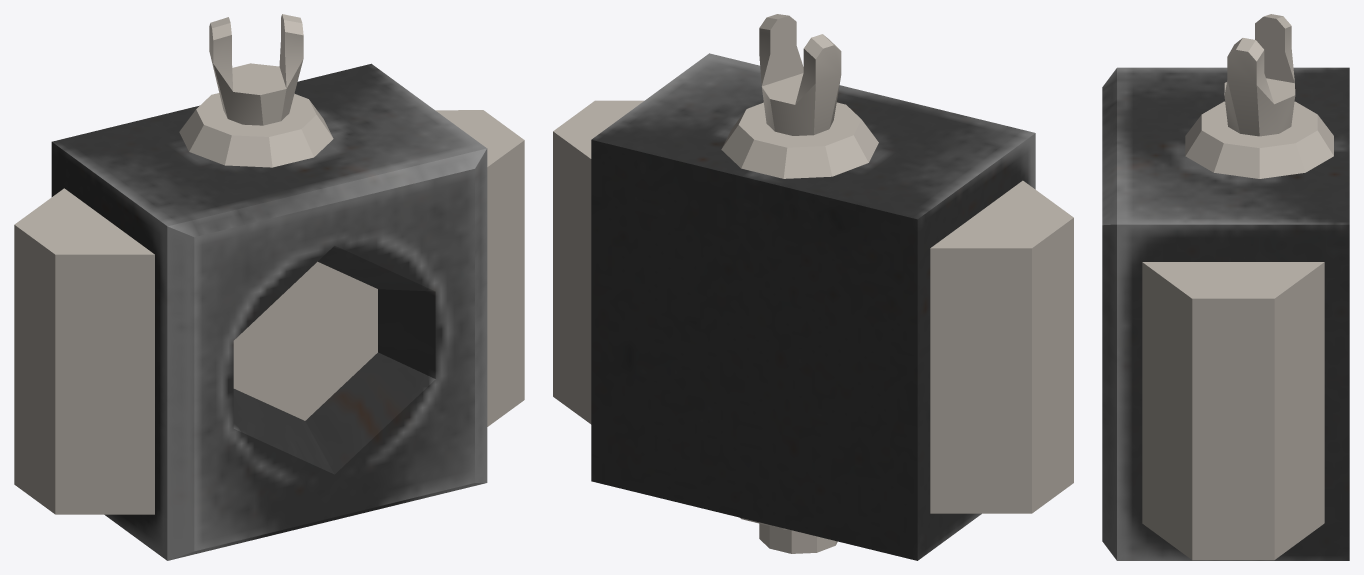
The model's file is wheel_handler.fbx.
The picture shows the model from 3 angles, left to right: view 1: azimuth 30°, elevation 25°; view 2: azimuth 150°, elevation 25°; view 3: azimuth 270°, elevation 25°; orthographic projection. The views are drawn at different scales.
Visible parts, largest first — view 1: wheel_handler; view 2: wheel_handler; view 3: wheel_handler.
Part boxes in pixels (x1,y1,x2,y2): wheel_handler: (14, 14, 524, 560); wheel_handler: (553, 14, 1073, 560); wheel_handler: (1102, 14, 1349, 560).
Size of the model in its own units: 49.48 by 50.37 by 22.47.
